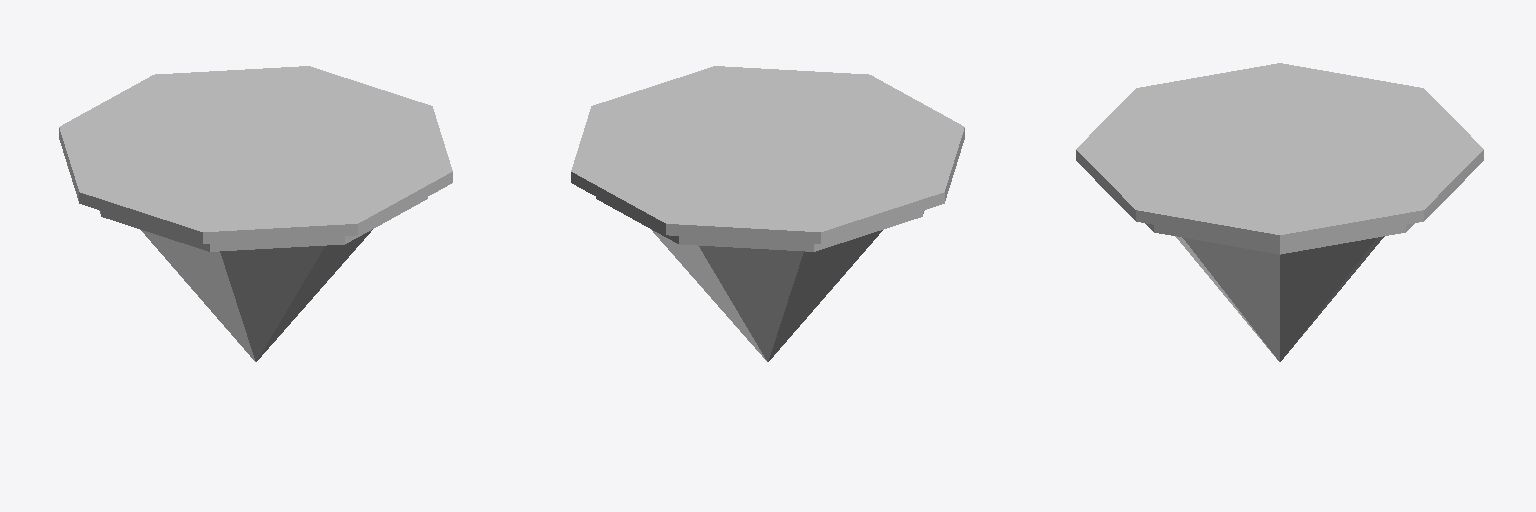
The model's file is stage.obj.
3 views of the same model, side by side, from view 1: azimuth 30°, elevation 25°; view 2: azimuth 150°, elevation 25°; view 3: azimuth 270°, elevation 25° (orthographic).
Parts seen in each view (by area): view 1: Cone; view 2: Cone; view 3: Cone.
Boxes of the visible parts, x1=… form: Cone: x1=59, y1=66, x2=452, y2=361; Cone: x1=571, y1=66, x2=964, y2=361; Cone: x1=1076, y1=63, x2=1483, y2=361.
Bounding box in the file's own units: 16 × 9.25 × 16.